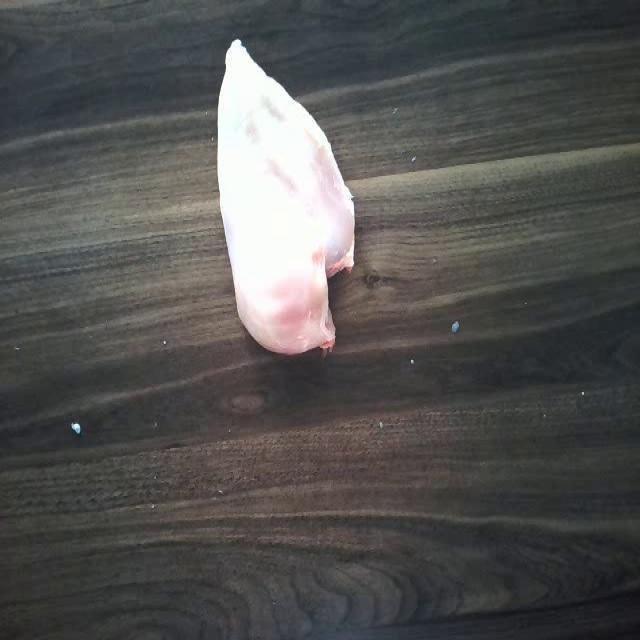breast: (217, 33, 355, 351)
